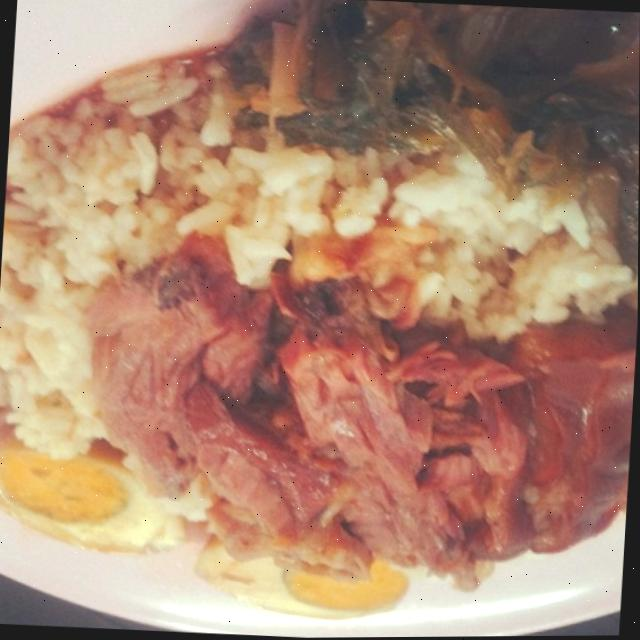猪肉菜式: (7, 26, 640, 640)
